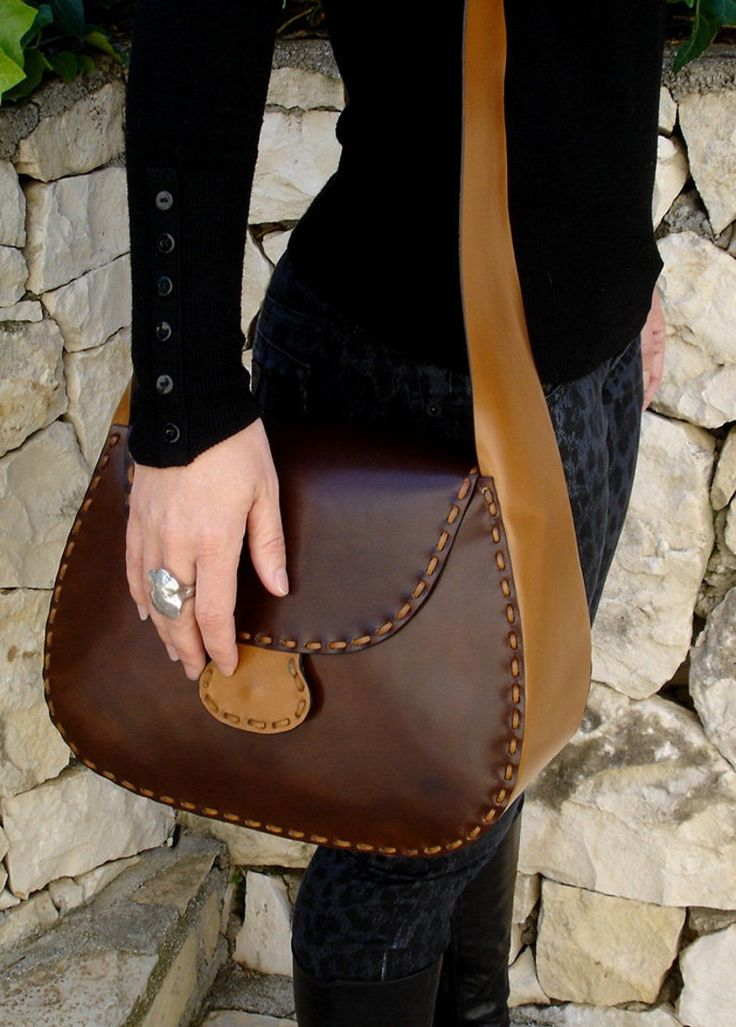cuero: (41, 2, 594, 855)
